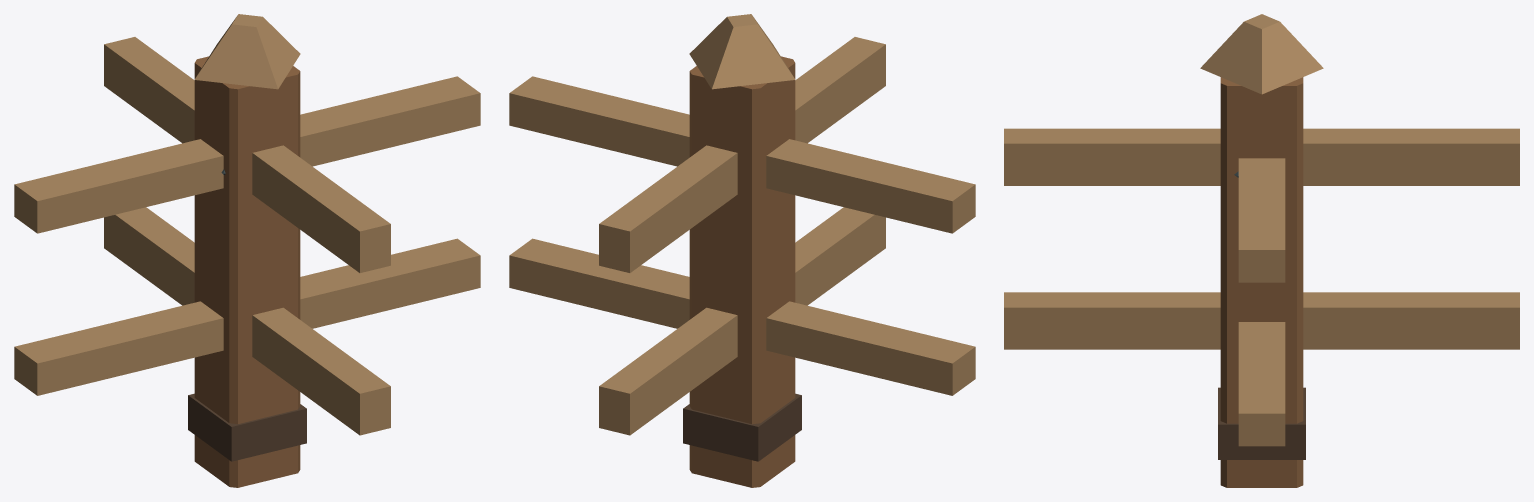
The model's file is fence_wood.glb.
3 views of the same model, side by side, from view 1: azimuth 30°, elevation 25°; view 2: azimuth 150°, elevation 25°; view 3: azimuth 270°, elevation 25° (orthographic).
Parts seen in each view (by area): view 1: geometry, rail_nx, rail_px, rail_pz, rail_nz; view 2: geometry, rail_nx, rail_px, rail_nz, rail_pz; view 3: geometry, rail_nz, rail_pz, rail_px.
Boxes of the visible parts, <box> form: geometry: <box>188,14,306,487</box>; rail_nx: <box>14,139,225,395</box>; rail_px: <box>300,76,480,328</box>; rail_pz: <box>252,145,390,435</box>; rail_nz: <box>104,37,194,305</box>; geometry: <box>683,14,801,487</box>; rail_nx: <box>766,139,975,395</box>; rail_px: <box>509,76,689,328</box>; rail_nz: <box>599,145,737,435</box>; rail_pz: <box>795,37,885,305</box>; geometry: <box>1200,14,1323,487</box>; rail_nz: <box>1303,128,1519,349</box>; rail_pz: <box>1004,128,1220,349</box>; rail_px: <box>1234,158,1285,446</box>.
Bounding box in the file's own units: 1 × 0.96 × 1.
